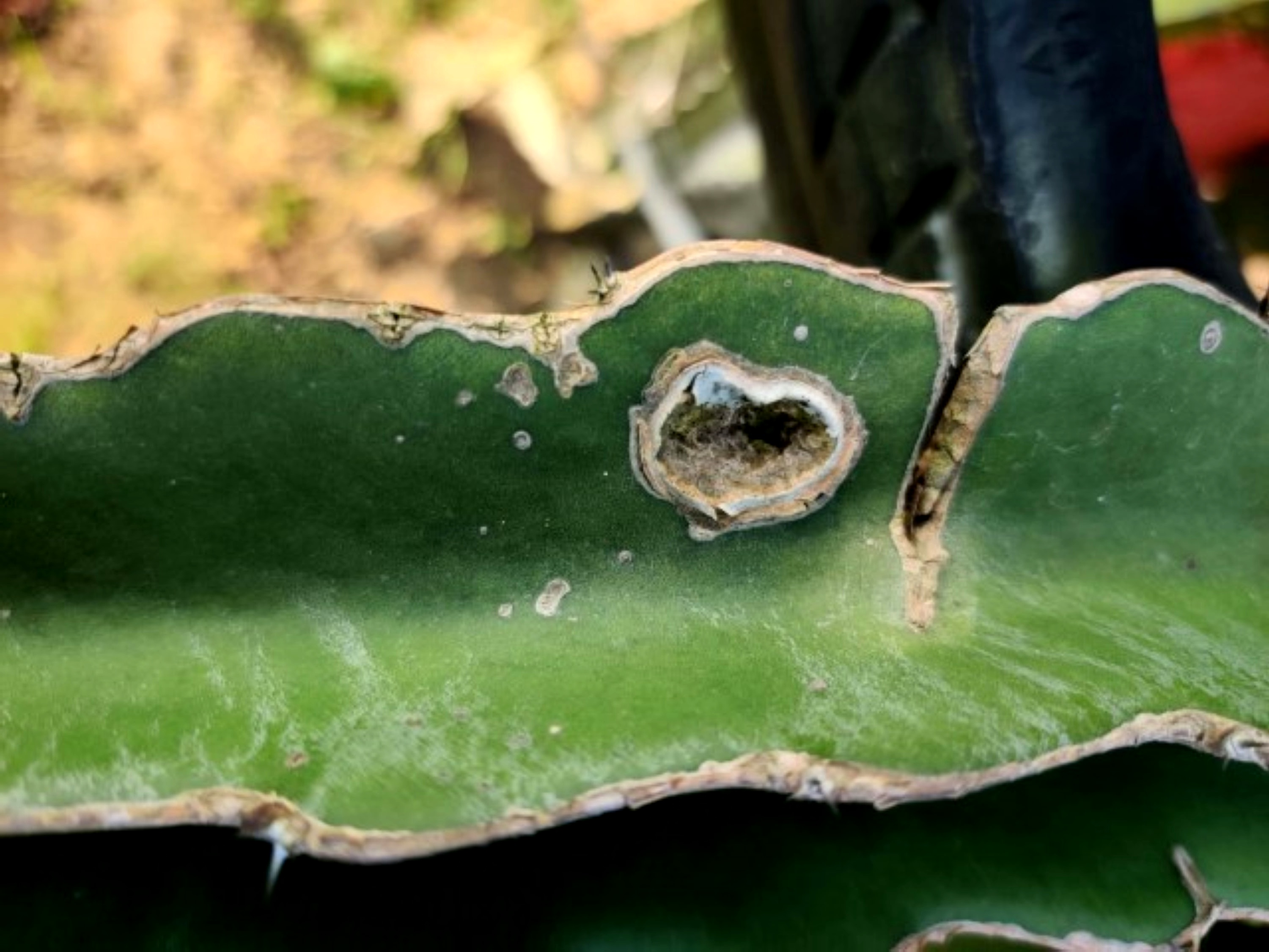stemcanker: (495, 212, 1060, 658)
